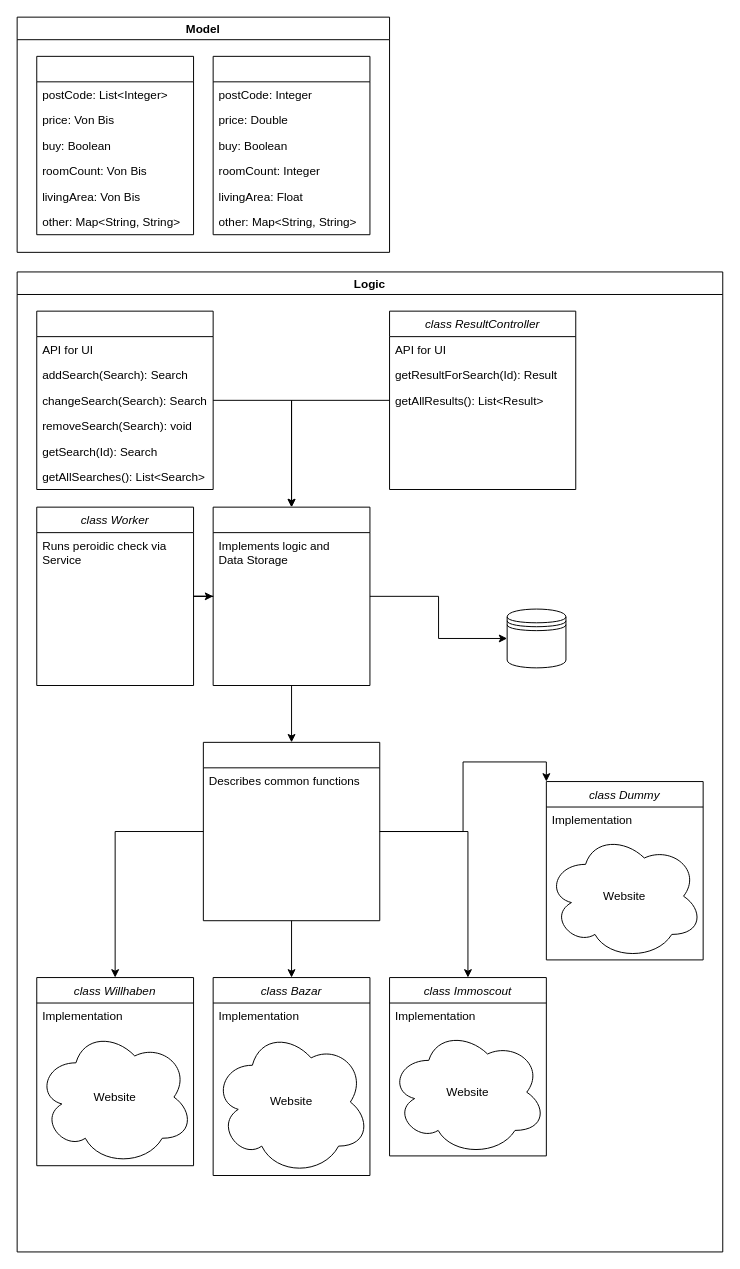
Image size: 740x1269. Some labels were removed from this diagram. The box of each missing label's shape, as (x1, y1, x2, y2) in pixels:
class Result: (212, 55, 370, 235)
class Search: (36, 55, 194, 235)
class SearchController: (36, 310, 213, 490)
class Service: (212, 506, 370, 686)
DB: (506, 608, 566, 668)
interface IMarket: (202, 741, 380, 921)
